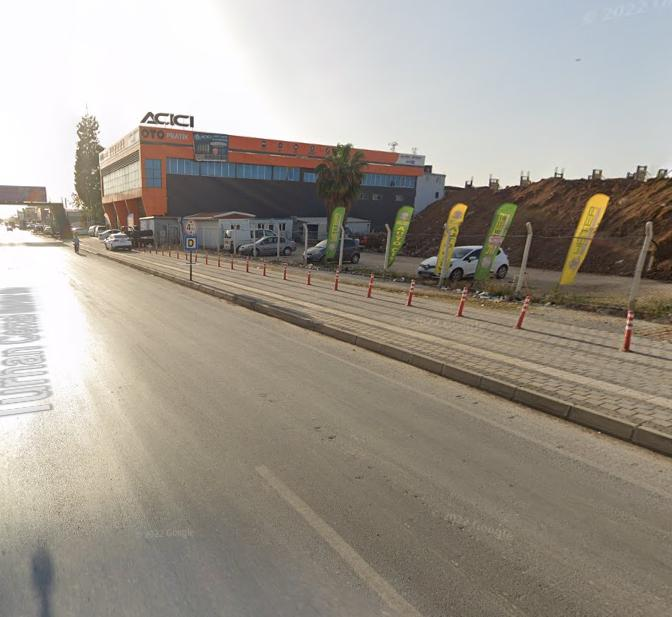station: (185, 236, 198, 250)
